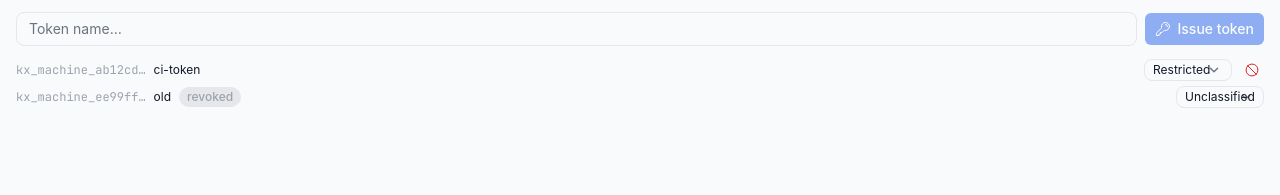
Test: MachineTokensPanel › revokes an active token and surfaces a fallback error when the server gives no detail
Click the button titled "Revoke token" at (1252, 70), box x1=1240 y1=58 x2=1264 y2=82
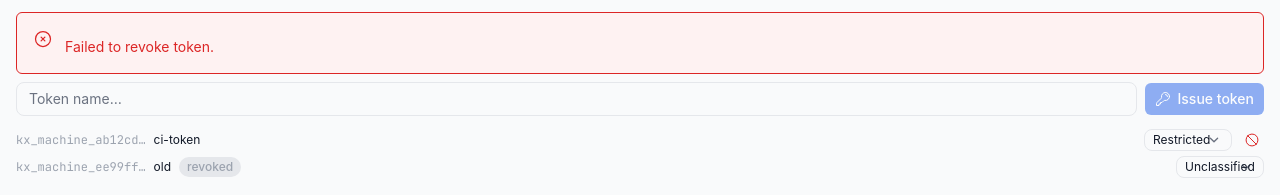
expect the text "Failed to revoke token." is shown: met, box x1=65 y1=38 x2=214 y2=55
